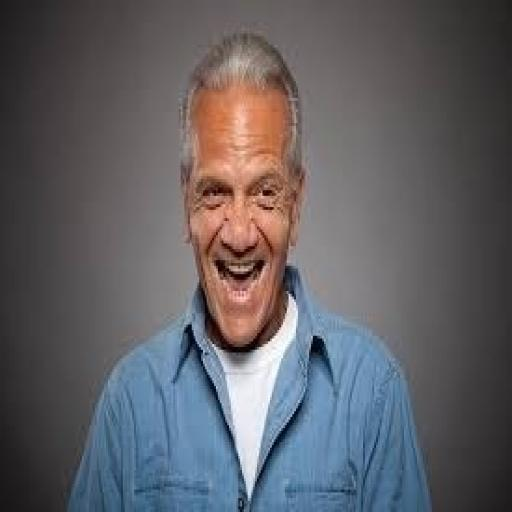laughing: (62, 22, 438, 510)
